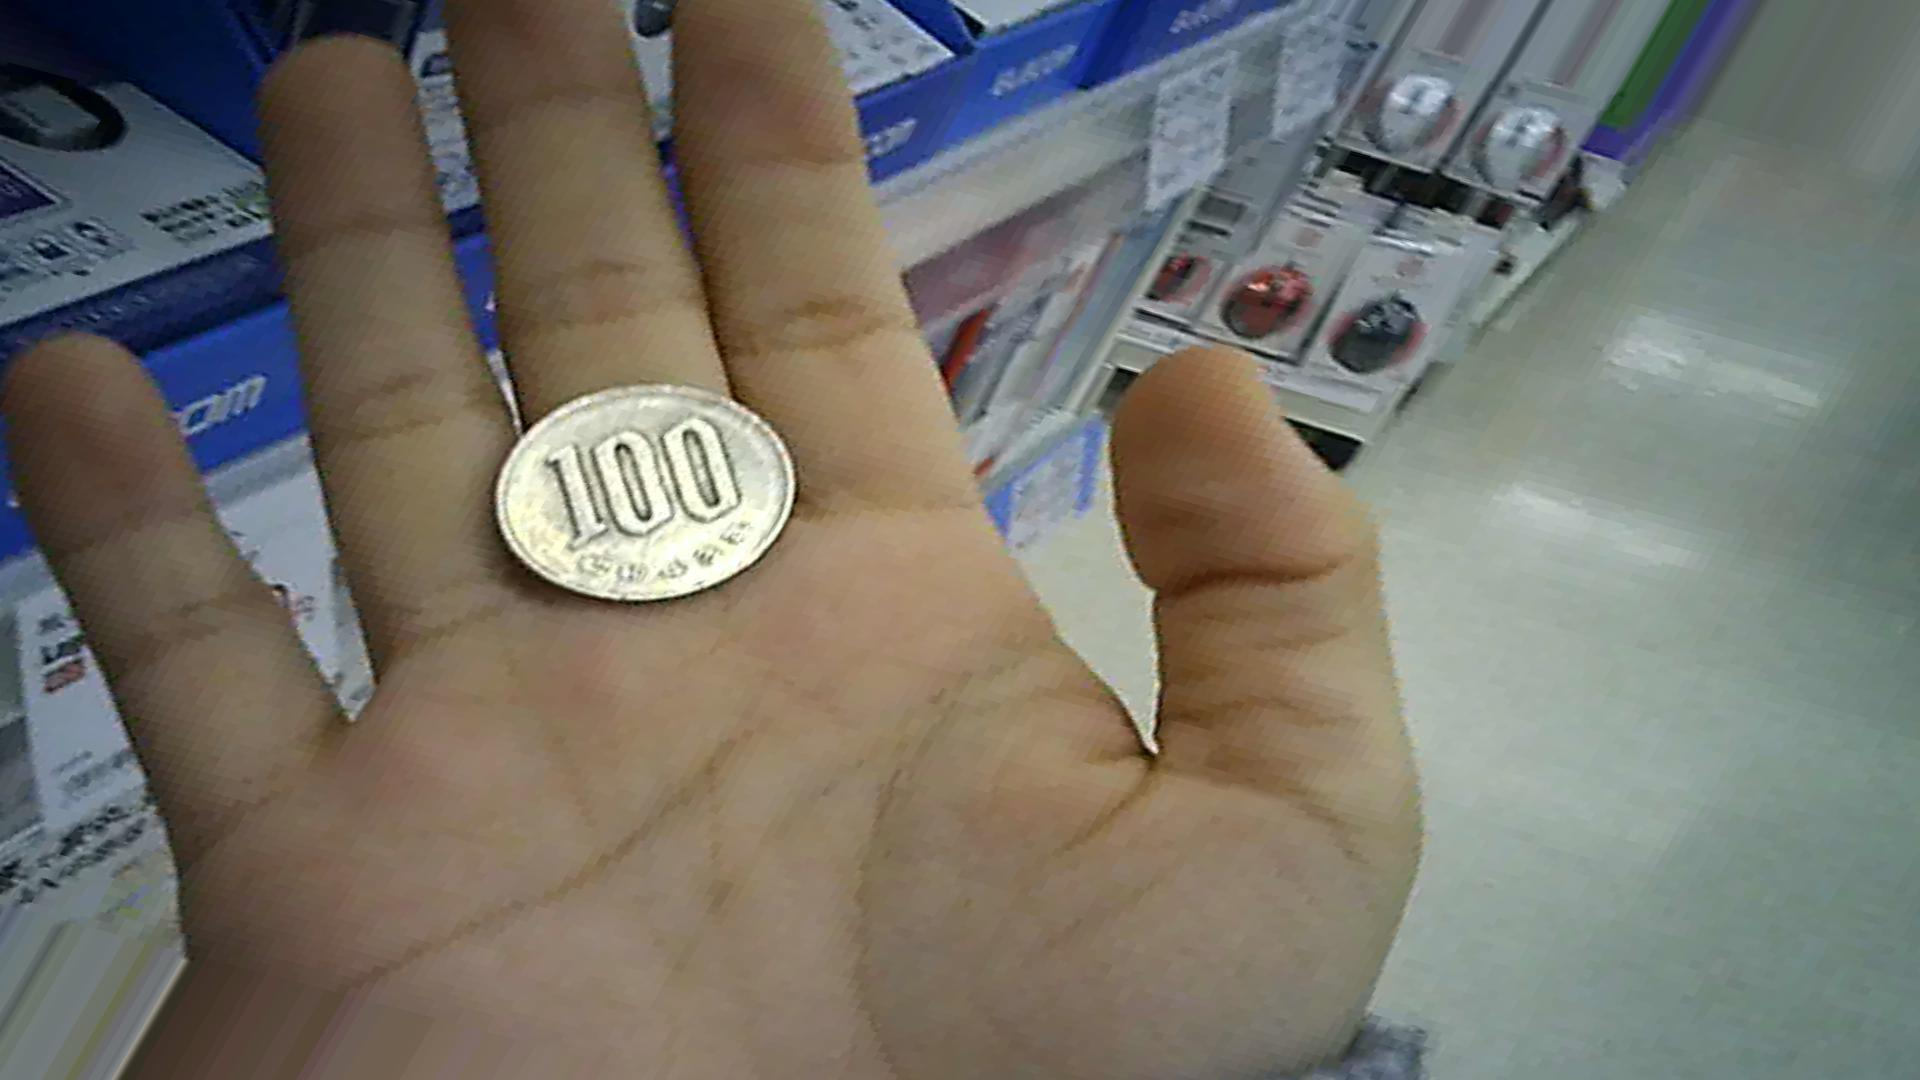100 Yen: (485, 365, 798, 630)
